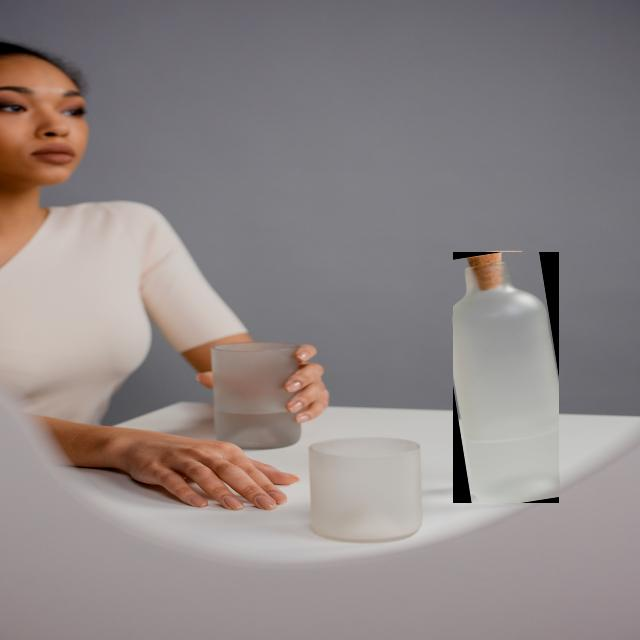Bottle: (452, 252, 558, 503)
